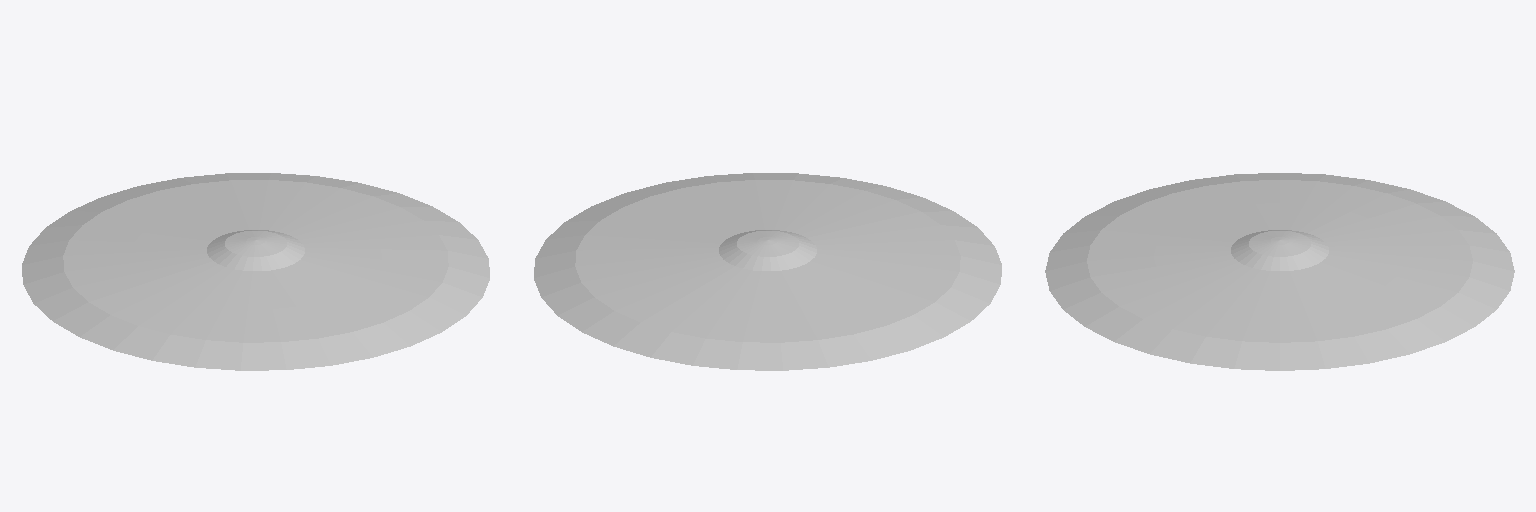
The model's file is DrumSet_Cymbal.obj.
The picture shows the model from 3 angles: view 1: azimuth 30°, elevation 25°; view 2: azimuth 150°, elevation 25°; view 3: azimuth 270°, elevation 25°; orthographic projection.
Parts seen in each view (by area): view 1: Converted object 0; view 2: Converted object 0; view 3: Converted object 0.
Boxes of the visible parts, x1,y1,x2,y2 form: Converted object 0: [22, 173, 489, 370]; Converted object 0: [534, 173, 1001, 370]; Converted object 0: [1045, 173, 1514, 370].
Bounding box in the file's own units: 10.01 × 0.7451 × 10.01.